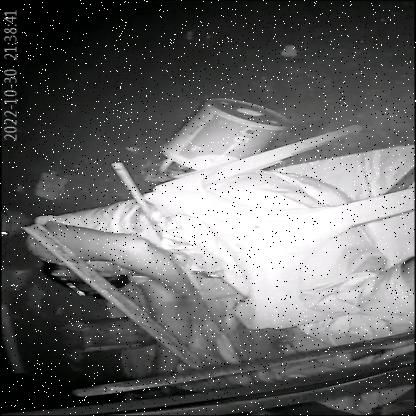hand: (44, 225, 226, 343)
